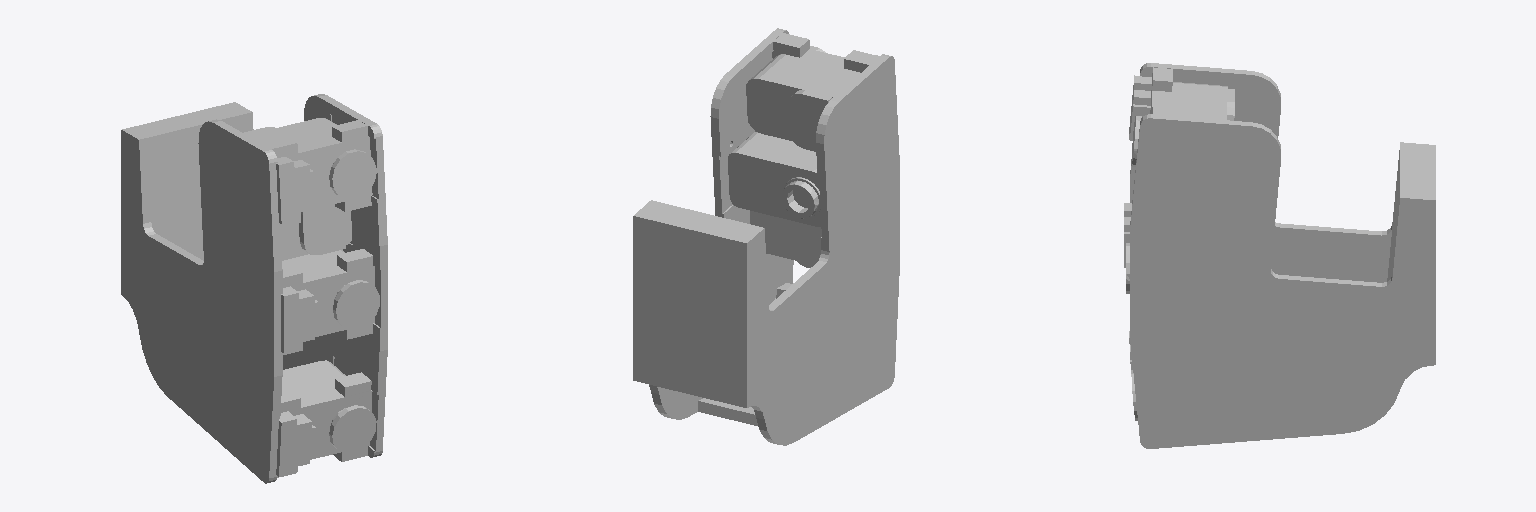
3 renders of one model, left to right at view 1: azimuth 30°, elevation 25°; view 2: azimuth 150°, elevation 25°; view 3: azimuth 270°, elevation 25°, orthographic.
Parts seen in each view (by area): view 1: base_link; view 2: base_link; view 3: base_link.
Boxes of the visible parts, box(x1,y1,x2,y2) form: base_link: box(121, 94, 387, 483); base_link: box(633, 28, 899, 445); base_link: box(1124, 63, 1435, 448).
Size of the model in its own units: 0.0408 by 0.1135 by 0.0967.